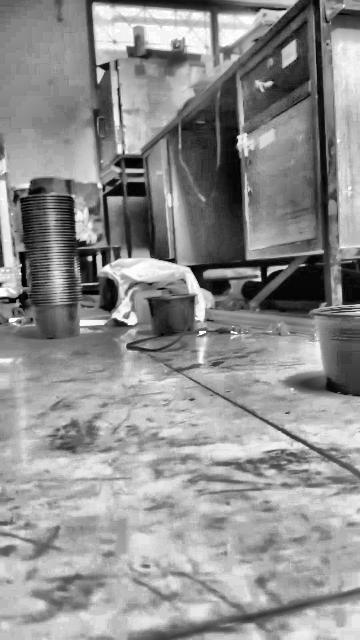pot: (309, 305, 360, 397), (31, 295, 80, 338), (145, 293, 195, 335)
